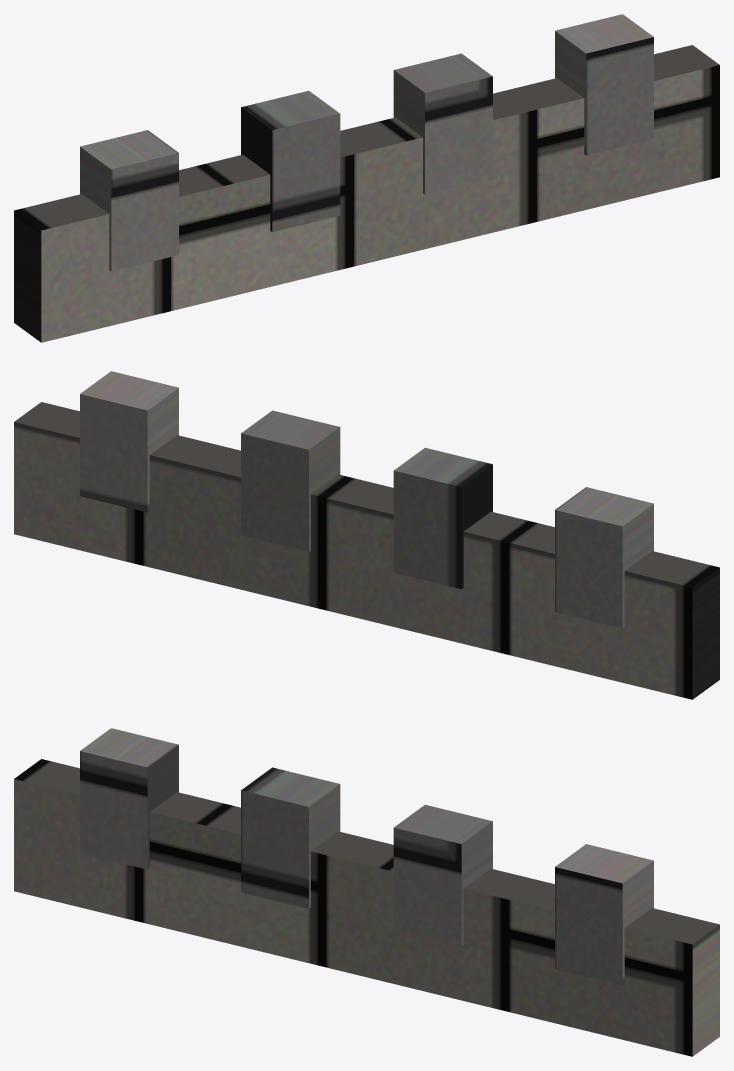
Rendered from CastleCurtainParapet.glb.
3 renders of one model, top to bottom at view 1: azimuth 30°, elevation 25°; view 2: azimuth 150°, elevation 25°; view 3: azimuth 330°, elevation 25°, orthographic.
Visible parts, largest first — view 1: CastleCurtainParapet; view 2: CastleCurtainParapet; view 3: CastleCurtainParapet.
Part boxes in pixels (x1=…): CastleCurtainParapet: x1=14, y1=14, x2=719, y2=342; CastleCurtainParapet: x1=14, y1=371, x2=719, y2=699; CastleCurtainParapet: x1=14, y1=728, x2=719, y2=1056.
Size of the model in its own units: 4 by 0.8913 by 0.32.
2 materials, 2 textured.
